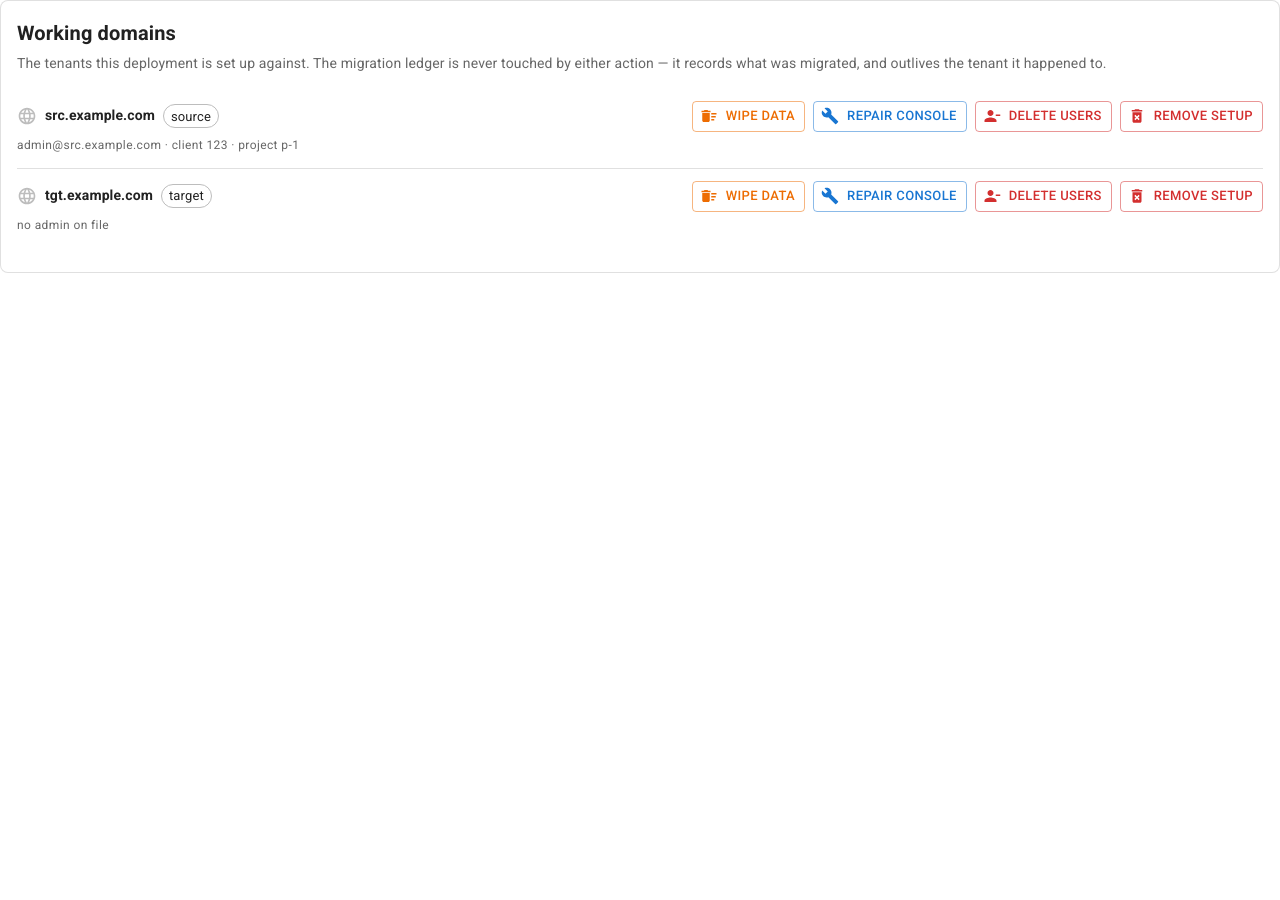
Test: working domains › says a removal needs a fresh sign-in and grant afterwards
The width and height of the screenshot is (1280, 900).
Click the button with test id "remove-source" at (1191, 116), box x1=1120 y1=101 x2=1263 y2=132
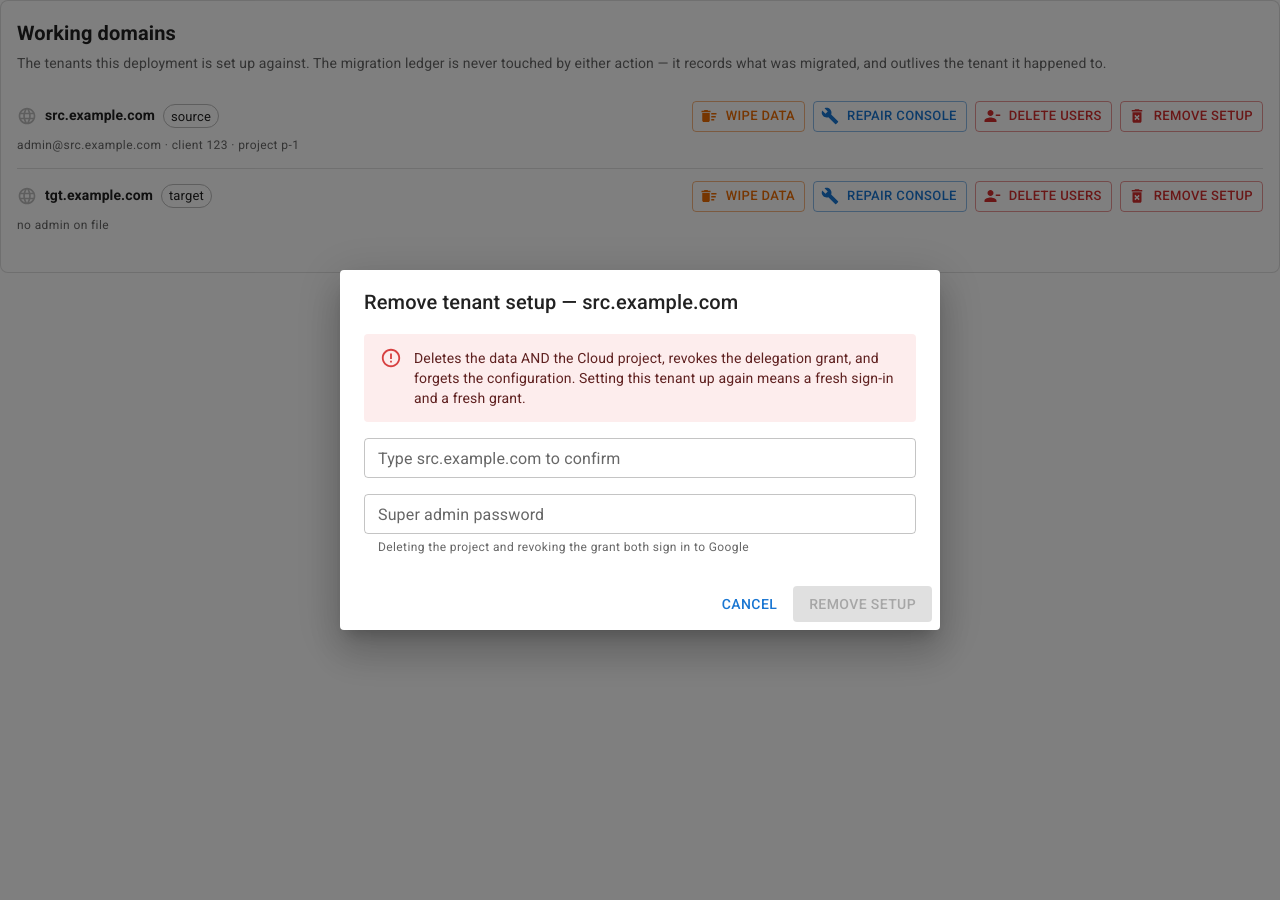
Now the text "fresh sign-in and a fresh grant" is shown, box x1=414 y1=350 x2=894 y2=406
